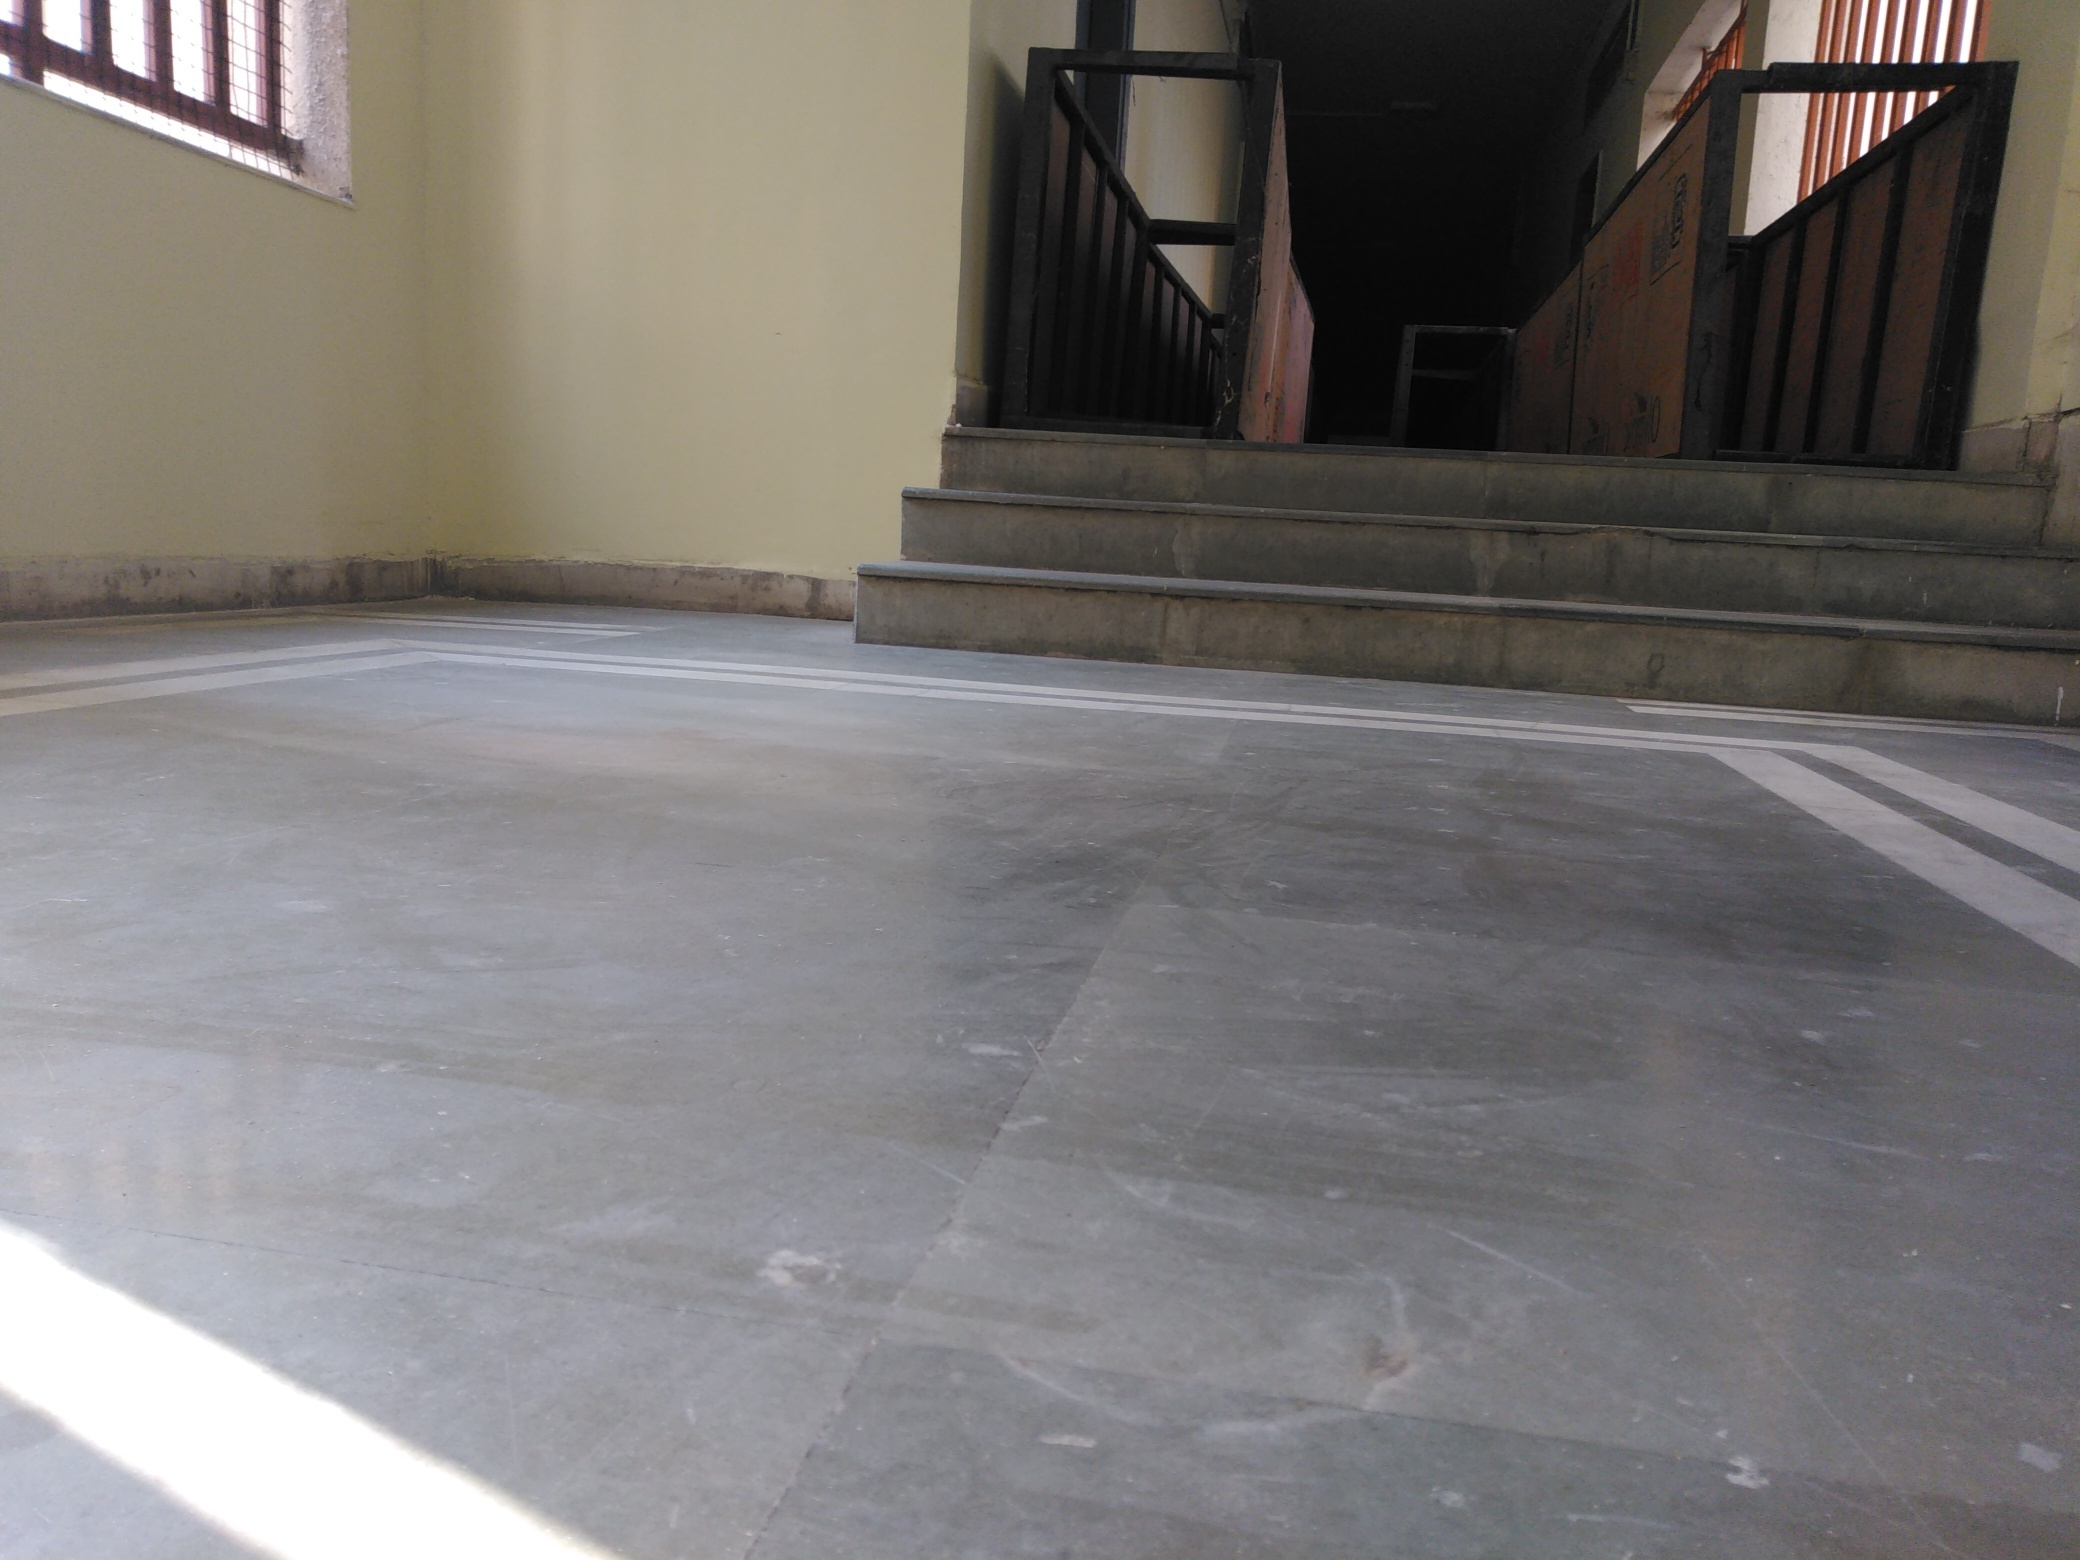stairs_up: (916, 423, 2060, 719)
